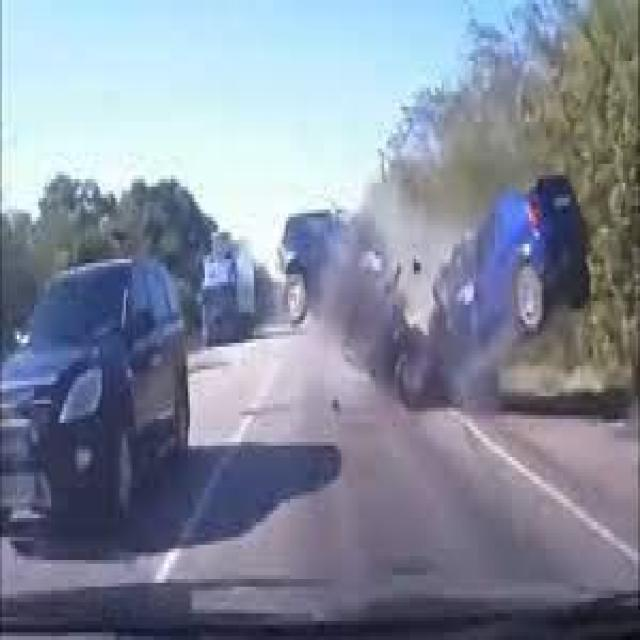accident: (271, 158, 593, 413)
